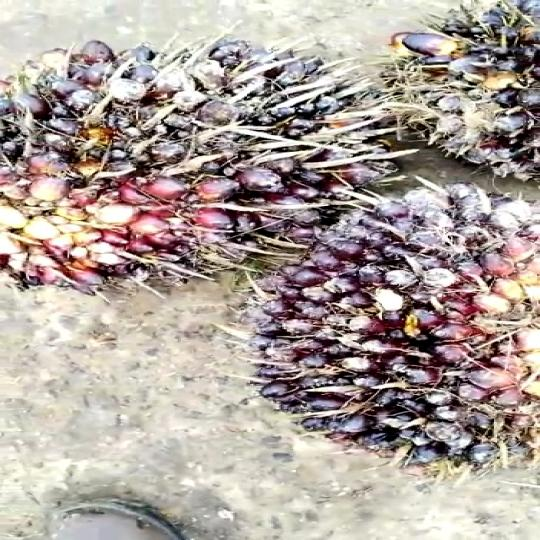kurang masak: (0, 25, 374, 301), (278, 184, 540, 468), (344, 0, 540, 173)
